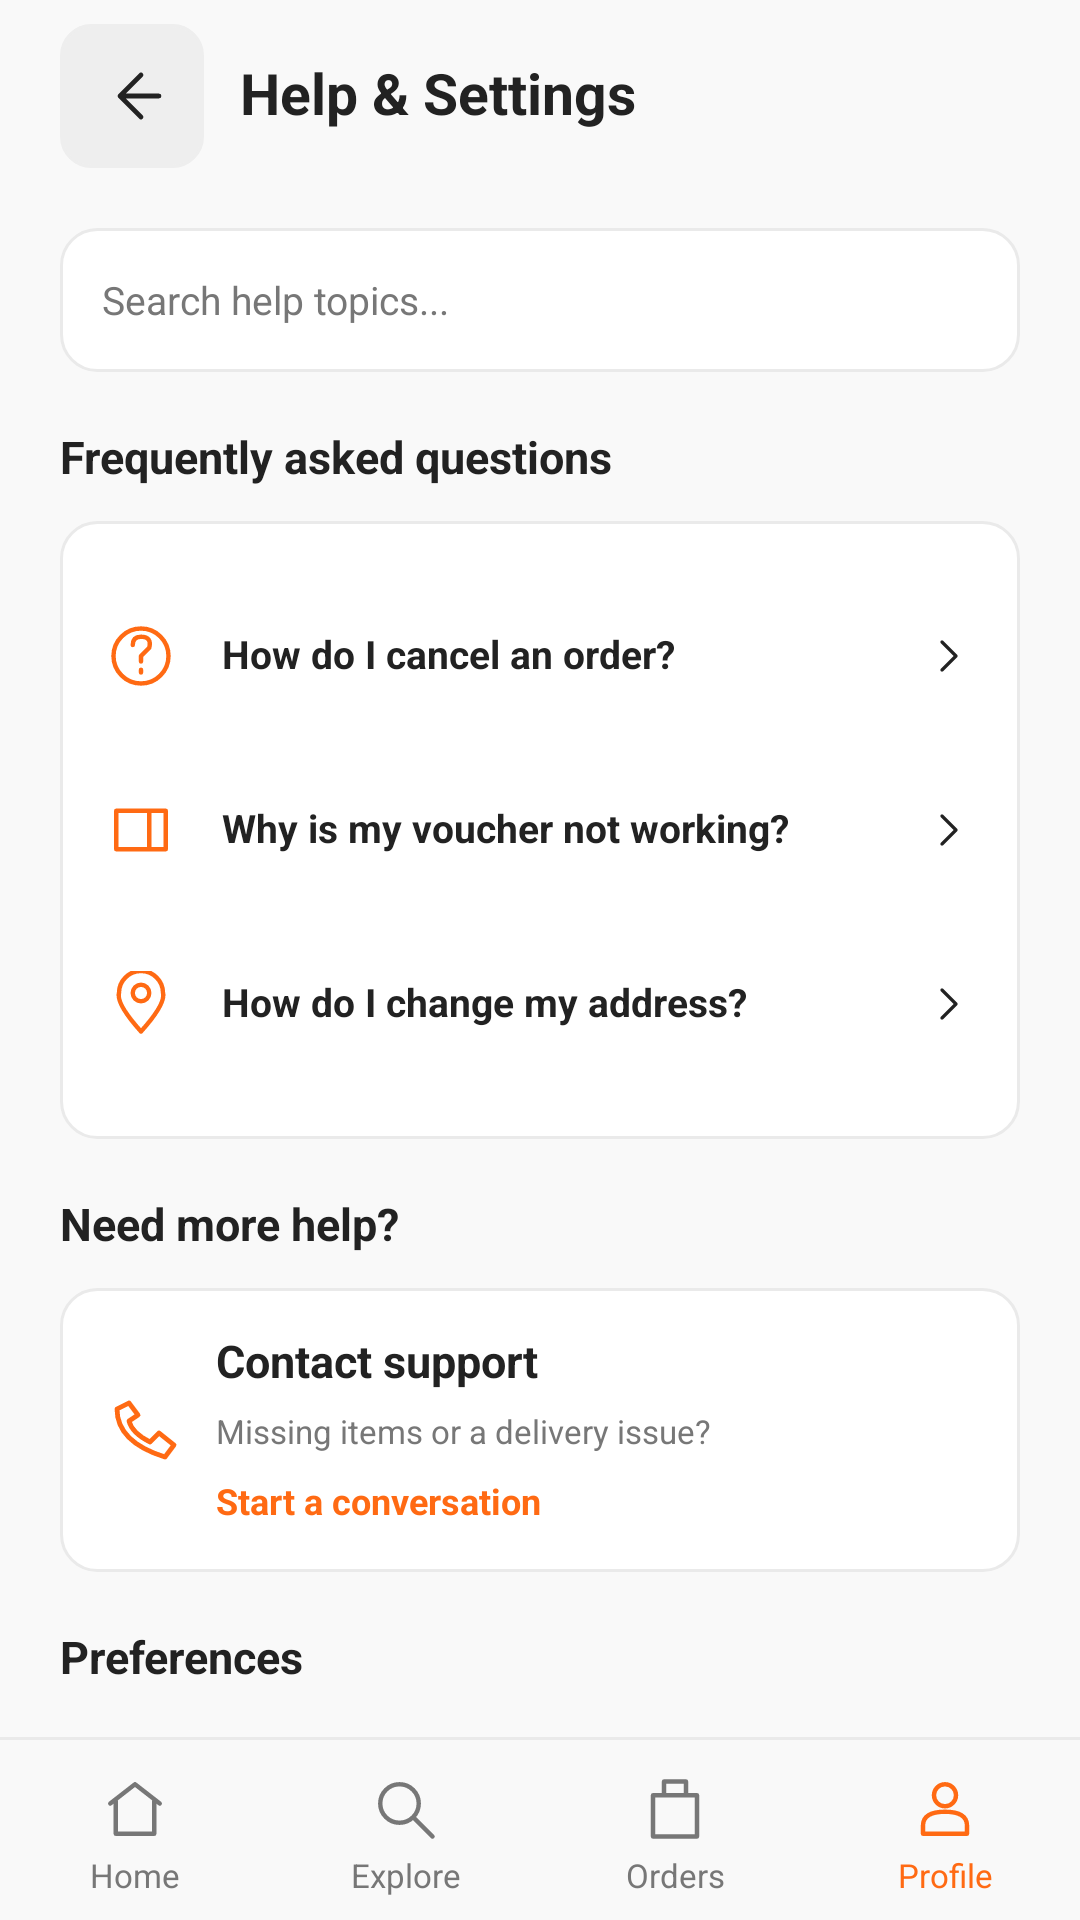

Icons on this 1080 x 1920 Android screen, each with the point to tap as (x=x, y=y):
Back: (x=132, y=96)
tv bag: (x=675, y=1809)
tv chevron: (x=949, y=656), (x=949, y=830), (x=949, y=1004)
tv help: (x=141, y=656)
tv person: (x=945, y=1809)
tv phone: (x=145, y=1430)
tv pin: (x=141, y=1002)
tv search: (x=406, y=1810)
